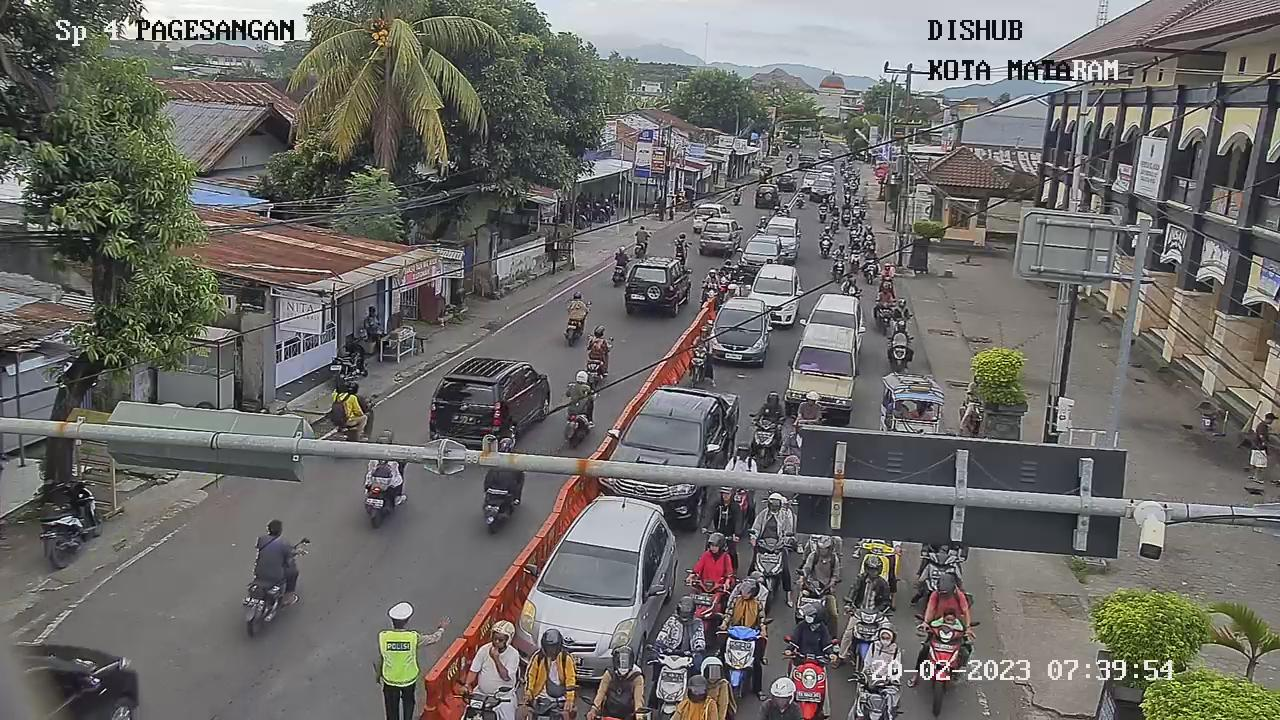car: (511, 489, 682, 681), (595, 383, 740, 503), (787, 322, 860, 425), (703, 300, 779, 364), (624, 254, 691, 320), (752, 264, 805, 325), (804, 290, 865, 342), (758, 214, 803, 264), (696, 215, 743, 258), (737, 232, 782, 276)
cidomo: (870, 370, 946, 454)
motorbike: (914, 612, 977, 713), (780, 636, 836, 720), (838, 594, 891, 667), (713, 621, 761, 695), (647, 644, 694, 716), (844, 664, 899, 720), (915, 548, 965, 604), (747, 527, 787, 593), (683, 569, 729, 626), (790, 567, 836, 624), (852, 541, 898, 587), (686, 343, 709, 387), (885, 334, 910, 371), (873, 300, 895, 336), (702, 279, 724, 307), (827, 258, 847, 287), (846, 246, 864, 272), (863, 258, 879, 286), (878, 273, 896, 293)
person: (519, 623, 579, 710), (247, 507, 304, 595), (588, 639, 643, 720), (466, 620, 520, 702), (917, 569, 976, 640), (855, 621, 909, 693), (656, 589, 710, 659), (785, 598, 839, 665), (680, 657, 734, 720), (845, 554, 896, 620), (687, 528, 734, 598), (794, 530, 841, 598), (719, 572, 766, 633), (316, 385, 368, 440), (750, 492, 791, 545), (703, 484, 743, 536), (563, 366, 598, 420), (790, 390, 822, 428), (751, 387, 781, 427), (726, 440, 757, 475), (586, 324, 613, 364), (564, 289, 594, 323), (689, 325, 714, 360), (671, 230, 694, 258), (891, 296, 914, 324), (873, 277, 895, 305), (891, 321, 912, 350), (700, 267, 723, 290), (634, 224, 651, 250), (878, 262, 898, 283), (874, 166, 893, 185), (614, 245, 629, 269), (847, 236, 863, 258), (830, 243, 848, 262), (817, 223, 834, 240), (864, 243, 877, 262)
